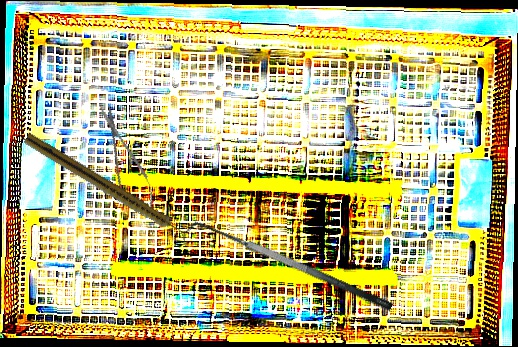Handpiece: (21, 132, 192, 244)
Micro Scissor: (89, 100, 163, 224)
Spatula Surgical: (183, 210, 394, 328)
